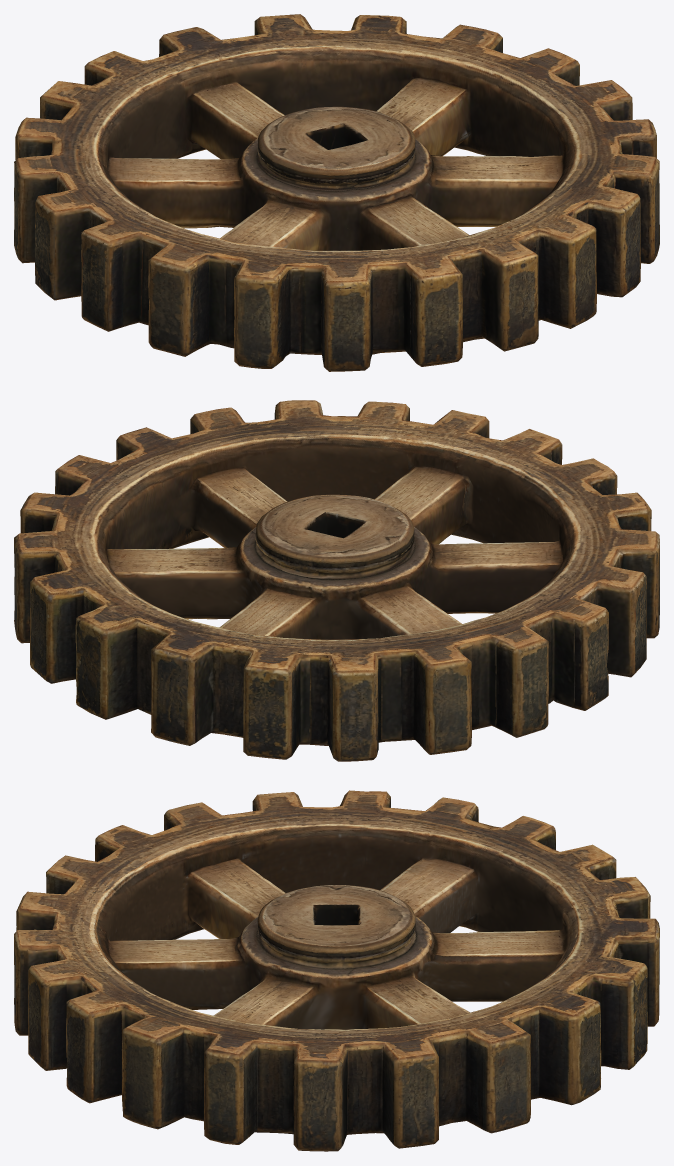
The model's file is Prop_GearLarge.fbx.
3 views of the same model, one above another, from view 1: azimuth 30°, elevation 25°; view 2: azimuth 150°, elevation 25°; view 3: azimuth 270°, elevation 25° (orthographic).
Parts seen in each view (by area): view 1: texture_mapping; view 2: texture_mapping; view 3: texture_mapping.
Part boxes in pixels (x1=…): texture_mapping: x1=14, y1=14, x2=659, y2=371; texture_mapping: x1=14, y1=400, x2=659, y2=761; texture_mapping: x1=14, y1=790, x2=659, y2=1151.
Bounding box in the file's own units: 1 × 0.9982 × 0.1766.
1 material, 1 textured.
